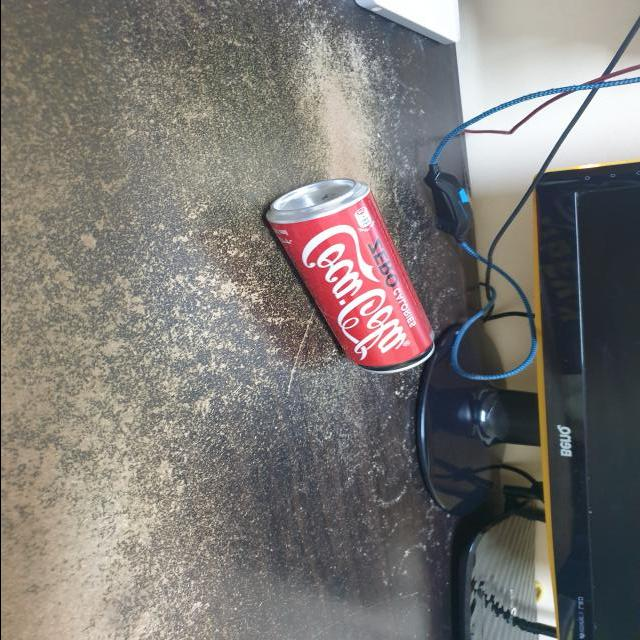can: (262, 178, 436, 373)
